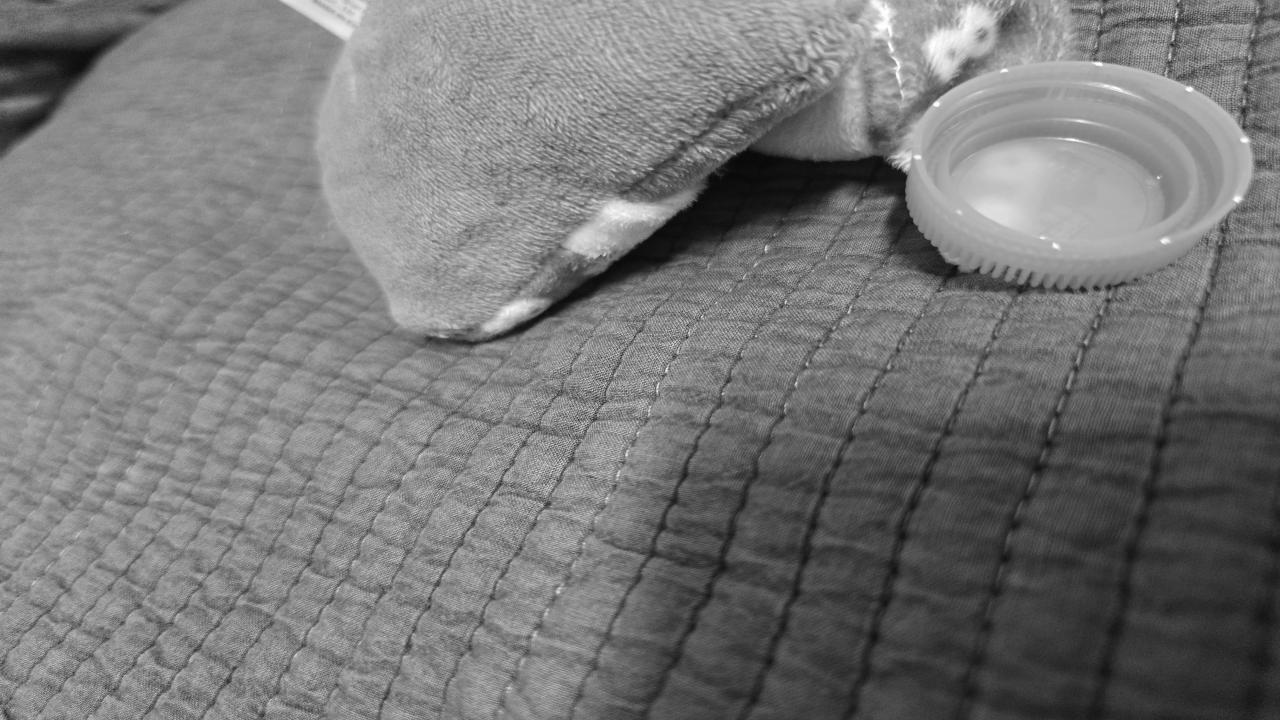bottle_cap: (909, 61, 1250, 289)
